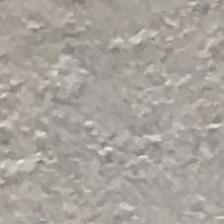Non_Crack: (21, 18, 218, 216)
